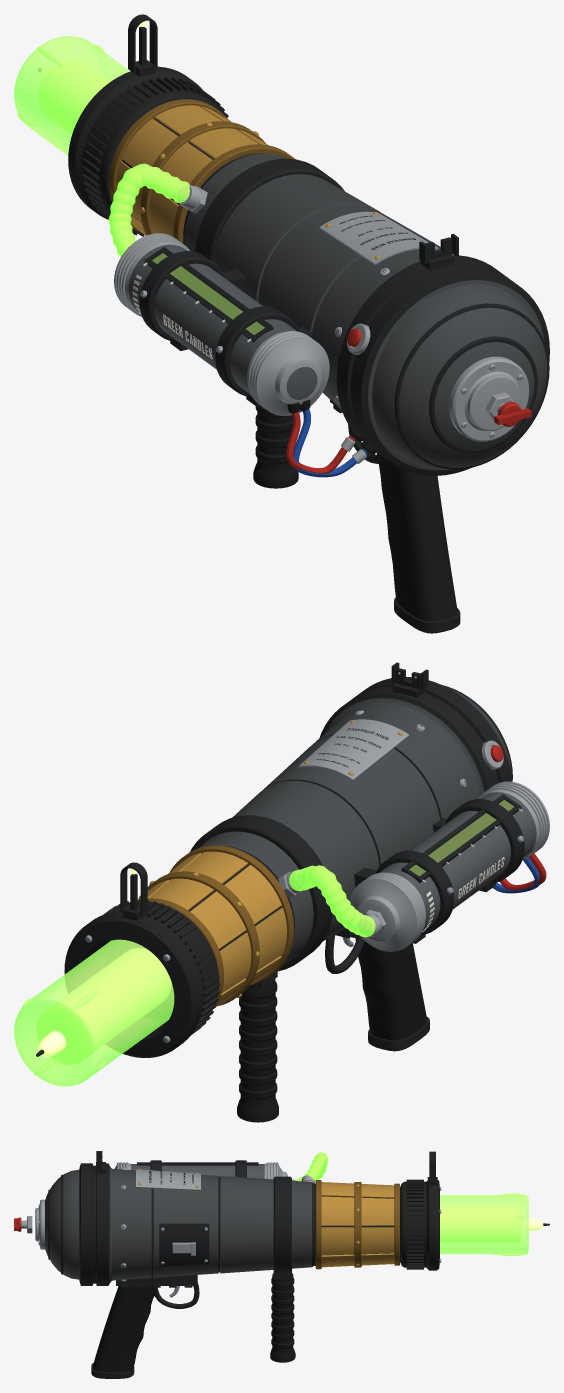
The model's file is greencandles.glb.
3 views of the same model, one above another, from view 1: azimuth 30°, elevation 25°; view 2: azimuth 150°, elevation 25°; view 3: azimuth 270°, elevation 25° (orthographic). The views are drawn at different scales.
Visible parts, largest first — view 1: GC_Body, GC_Tank, GC_GaugeFill; view 2: GC_Body, GC_Tank, GC_GaugeFill; view 3: GC_Body, GC_Tank.
Part boxes in pixels (<box>): GC_Body: <box>14,14,549,633</box>; GC_Tank: <box>108,163,367,477</box>; GC_GaugeFill: <box>152,253,264,334</box>; GC_Body: <box>14,662,524,1122</box>; GC_Tank: <box>278,781,549,951</box>; GC_GaugeFill: <box>409,800,513,876</box>; GC_Body: <box>14,1151,549,1378</box>; GC_Tank: <box>114,1152,327,1183</box>.
Bounding box in the file's own units: 0.2074 × 0.2927 × 0.6425.
